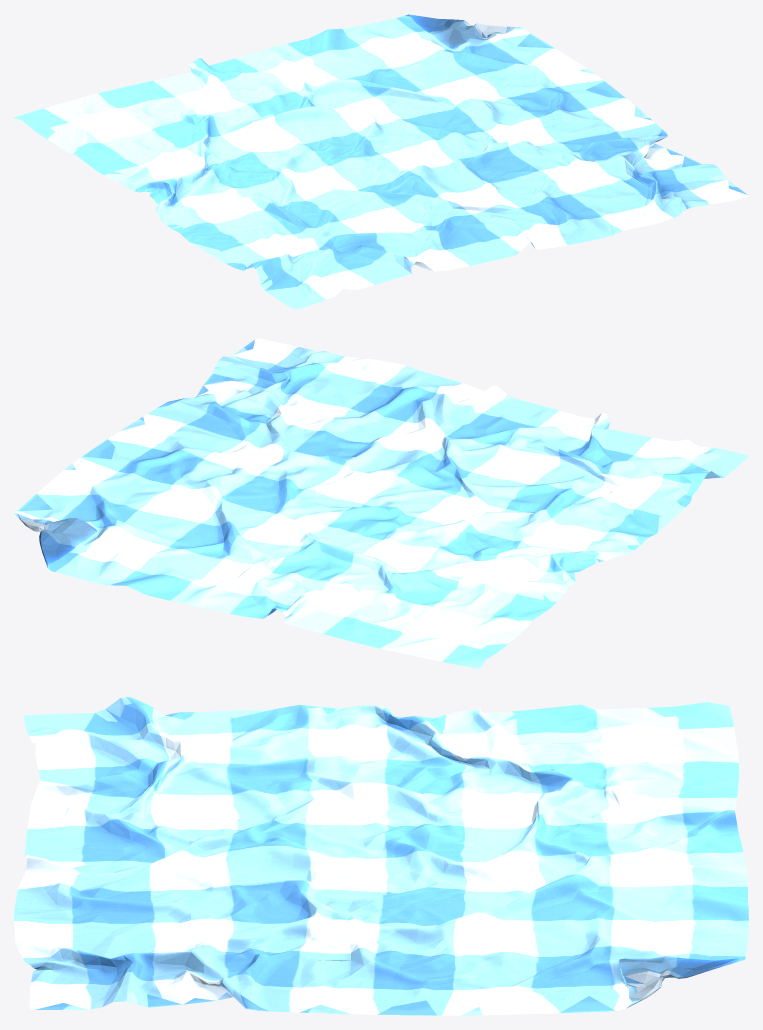
File: picnic.gltf
3 renders of one model, top to bottom at view 1: azimuth 30°, elevation 25°; view 2: azimuth 150°, elevation 25°; view 3: azimuth 270°, elevation 25°, orthographic. The views are drawn at different scales.
Parts seen in each view (by area): view 1: Plane; view 2: Plane; view 3: Plane.
Part boxes in pixels (<box>): Plane: <box>14,14,748,309</box>; Plane: <box>14,338,748,668</box>; Plane: <box>14,697,748,1015</box>.
Size of the model in its own units: 12.65 by 0.3393 by 12.67.
1 material, 1 textured.
